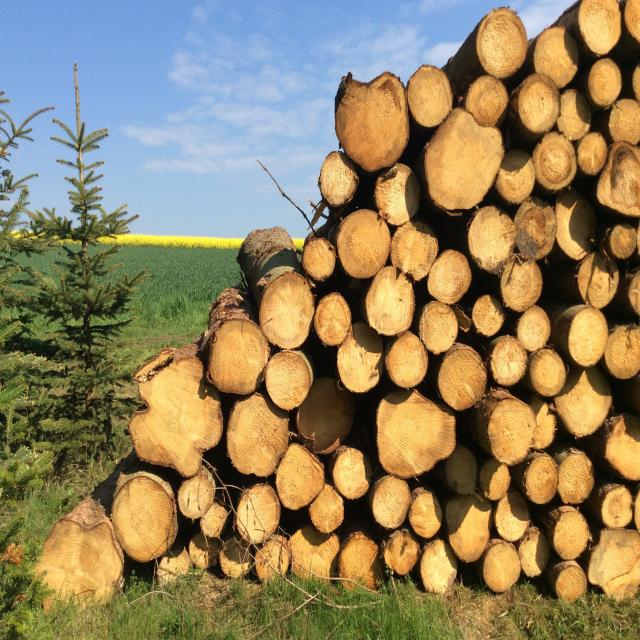wood-log: (72, 0, 421, 309), (129, 352, 222, 477), (29, 514, 123, 602), (423, 110, 502, 214), (333, 73, 408, 172), (378, 389, 458, 476), (111, 478, 176, 563), (228, 396, 292, 478), (208, 320, 271, 394), (295, 377, 355, 454), (260, 272, 316, 350), (552, 366, 610, 436), (478, 395, 534, 464), (585, 530, 638, 602), (337, 208, 392, 277), (477, 10, 530, 80), (467, 206, 516, 277), (362, 266, 413, 334), (442, 496, 492, 564), (273, 443, 324, 509), (440, 344, 490, 411), (337, 321, 382, 392), (599, 146, 640, 220), (535, 26, 582, 89), (407, 66, 453, 130), (264, 351, 313, 411), (237, 486, 284, 547), (373, 164, 418, 227), (392, 221, 439, 281), (518, 73, 562, 133), (518, 195, 558, 260), (535, 129, 576, 191), (565, 308, 606, 370), (426, 251, 473, 305), (386, 332, 430, 388), (604, 412, 640, 480), (574, 0, 619, 53), (499, 259, 542, 314), (292, 528, 336, 581), (420, 539, 460, 595), (417, 301, 459, 354), (498, 150, 538, 204), (330, 450, 371, 502), (371, 476, 411, 529), (314, 293, 353, 347), (319, 152, 358, 206), (468, 74, 509, 125), (339, 535, 381, 584), (487, 336, 528, 386), (553, 508, 592, 560), (558, 452, 594, 506), (181, 467, 218, 519), (441, 445, 480, 494), (558, 89, 594, 142), (606, 324, 640, 380), (482, 541, 520, 591), (528, 349, 566, 398), (522, 455, 556, 506), (310, 484, 344, 534), (588, 57, 622, 107), (408, 493, 442, 540), (257, 534, 290, 582), (302, 236, 337, 281), (521, 527, 551, 579), (472, 294, 508, 337), (518, 305, 552, 350), (219, 534, 253, 578), (555, 562, 589, 605), (383, 532, 416, 576), (610, 96, 640, 144), (603, 484, 635, 529), (575, 130, 606, 176), (200, 502, 230, 539), (610, 223, 640, 260), (482, 465, 510, 502), (624, 0, 640, 40), (625, 374, 640, 415), (628, 266, 640, 316), (633, 492, 640, 530), (633, 65, 640, 101)
